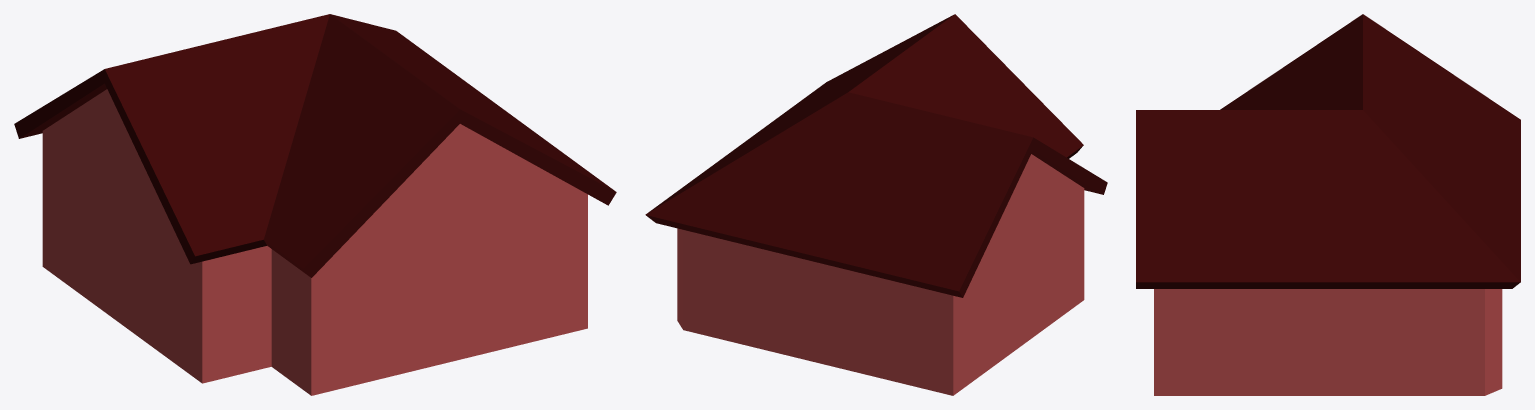
File: village_house_C.FBX
The picture shows the model from 3 angles, left to right: view 1: azimuth 30°, elevation 25°; view 2: azimuth 150°, elevation 25°; view 3: azimuth 270°, elevation 25°; orthographic projection. The views are drawn at different scales.
Visible parts, largest first — view 1: Murs_003; view 2: Murs_003; view 3: Murs_003.
Boxes of the visible parts, x1,y1,x2,y2 form: Murs_003: (14,14,616,395); Murs_003: (645,14,1107,395); Murs_003: (1136,14,1520,395).
Bounding box in the file's own units: 1105 × 720 × 1105.
